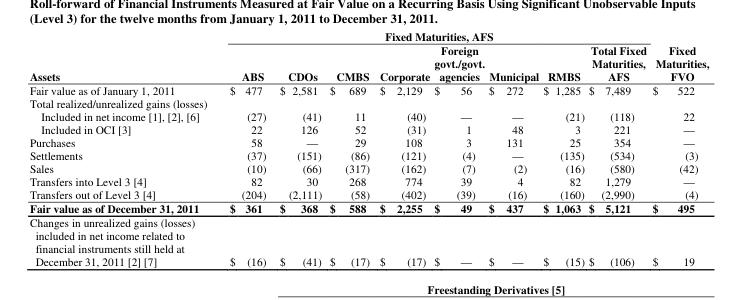table: (28, 28, 708, 268)
table column: (28, 28, 213, 268), (585, 28, 648, 268), (648, 28, 708, 268), (213, 28, 272, 268), (373, 28, 431, 268), (431, 28, 486, 268), (486, 28, 540, 268), (272, 28, 325, 268), (325, 28, 373, 268), (540, 28, 585, 268)
table column header: (28, 28, 708, 82)
table projected row header: (28, 95, 708, 108)
table row: (28, 215, 708, 268), (28, 43, 708, 82), (28, 28, 708, 43), (28, 200, 708, 215), (28, 134, 708, 148), (28, 82, 708, 95), (28, 95, 708, 108), (28, 108, 708, 121), (28, 121, 708, 134), (28, 148, 708, 161), (28, 161, 708, 174), (28, 174, 708, 187), (28, 187, 708, 200)
table spanning cell: (28, 28, 213, 82), (213, 28, 648, 43), (648, 28, 708, 82)
